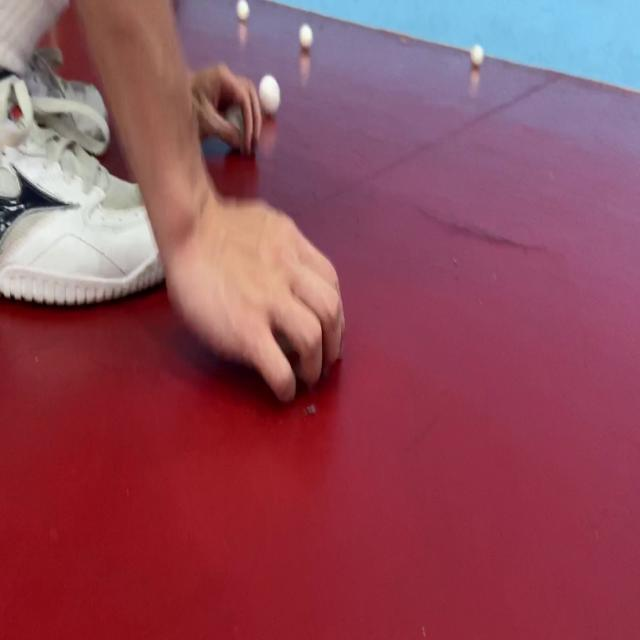ping-pong-ball: (256, 70, 282, 116)
